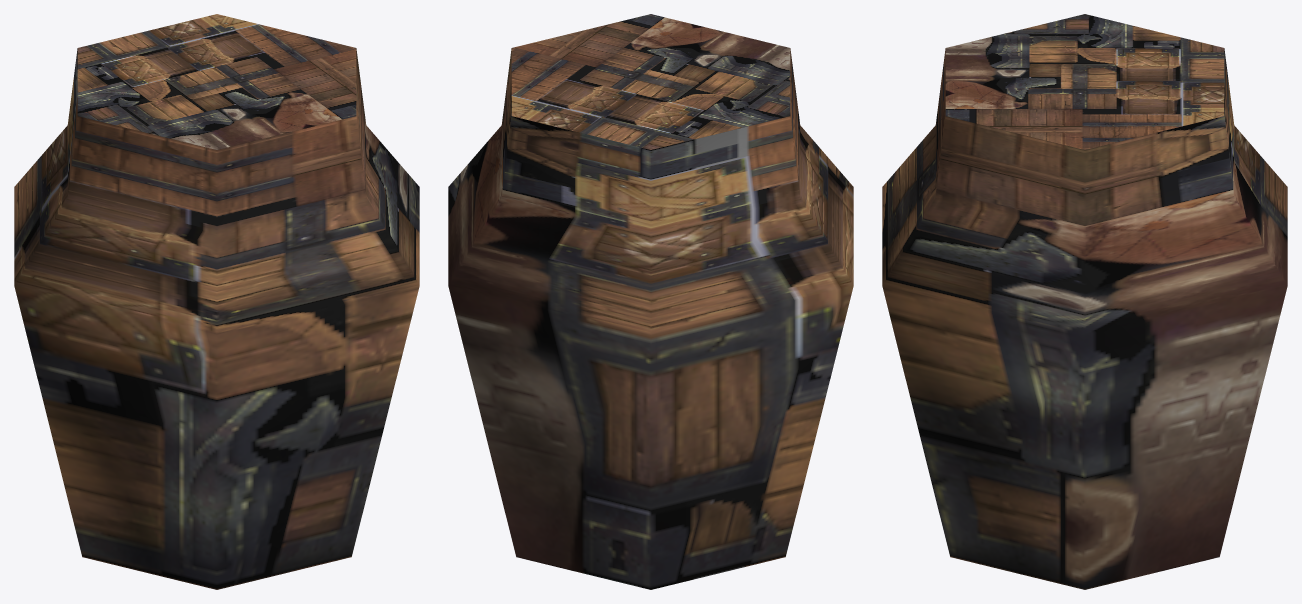
The model's file is effect_guanzi02.FBX.
The picture shows the model from 3 angles, left to right: view 1: azimuth 30°, elevation 25°; view 2: azimuth 150°, elevation 25°; view 3: azimuth 270°, elevation 25°; orthographic projection.
Parts seen in each view (by area): view 1: guanzi02; view 2: guanzi02; view 3: guanzi02.
Part boxes in pixels (bbox=[...]): guanzi02: bbox=[14, 14, 419, 589]; guanzi02: bbox=[448, 14, 853, 589]; guanzi02: bbox=[882, 14, 1287, 589].
Size of the model in its own units: 0.8201 by 0.8549 by 0.7103.
